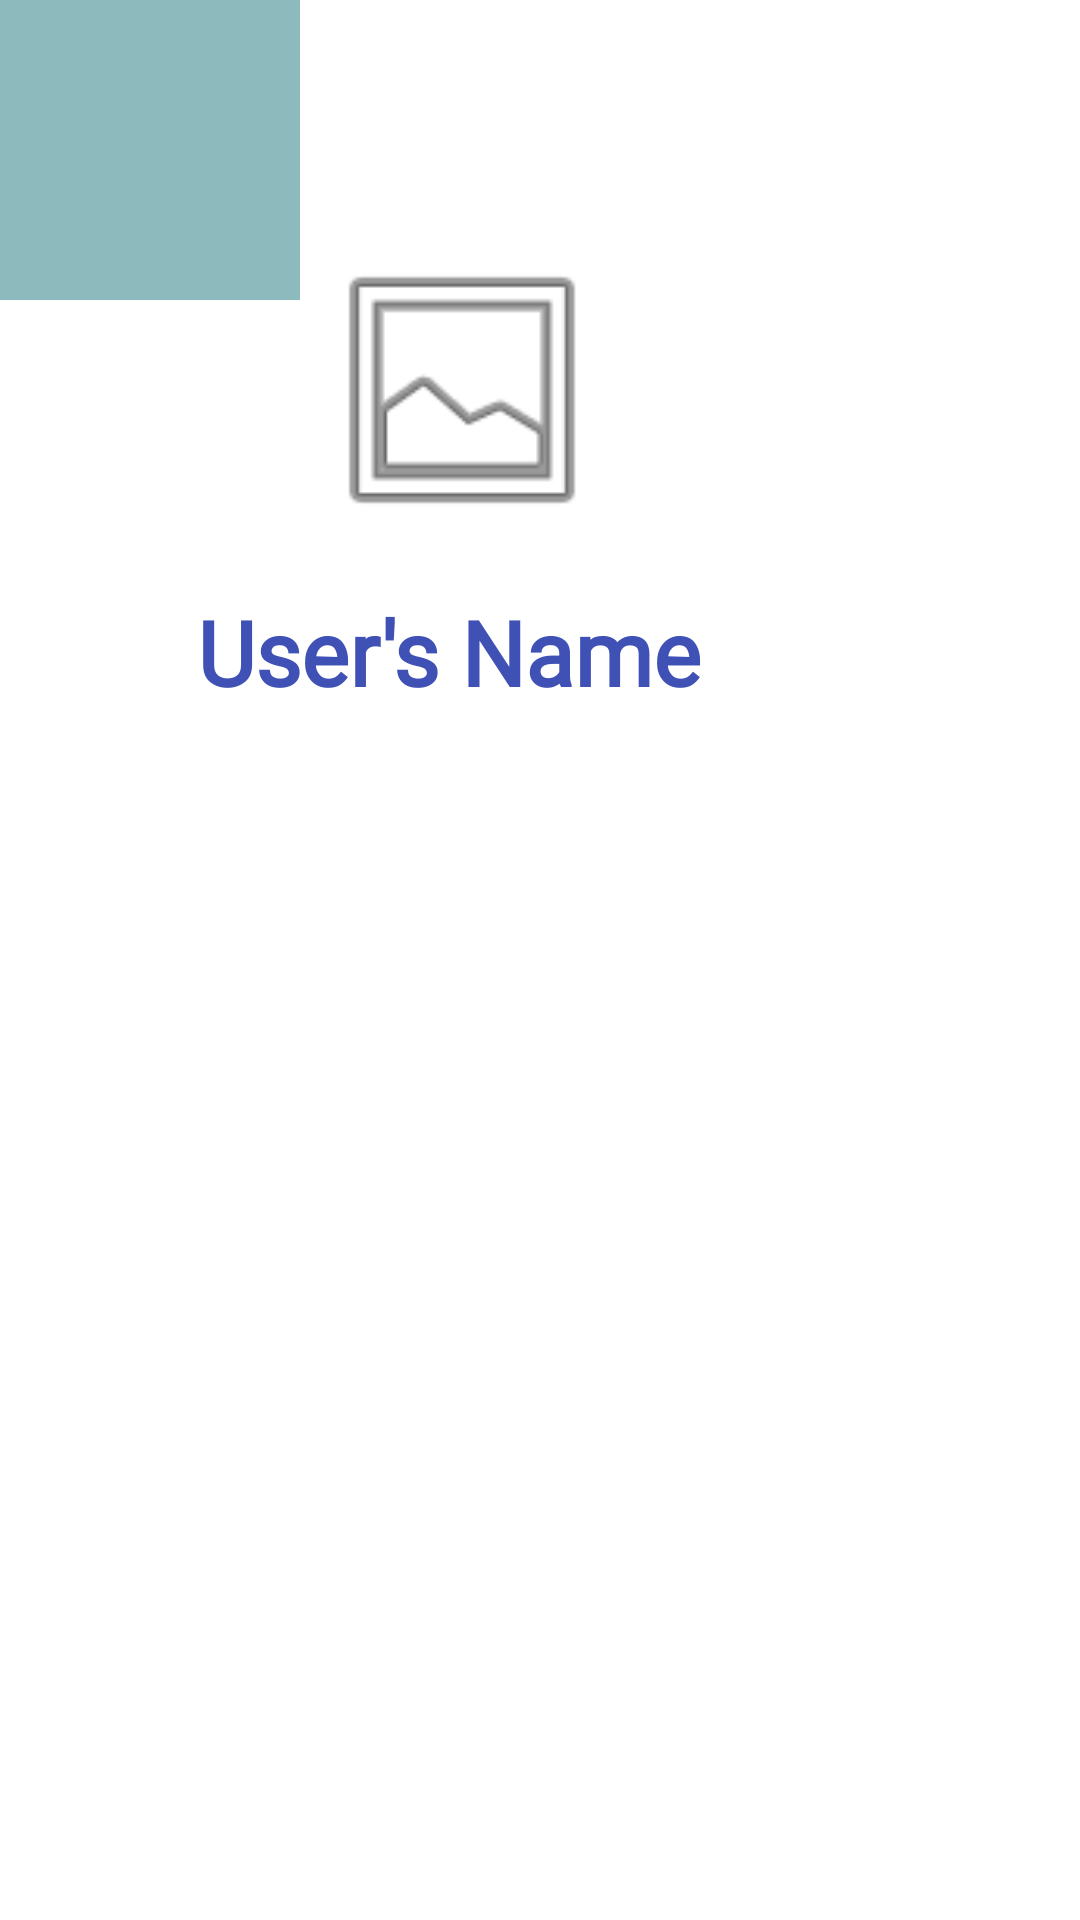

Icon click points for this 1080 × 1920 phone screenshot, format (x,y):
gallery: (462,390)
